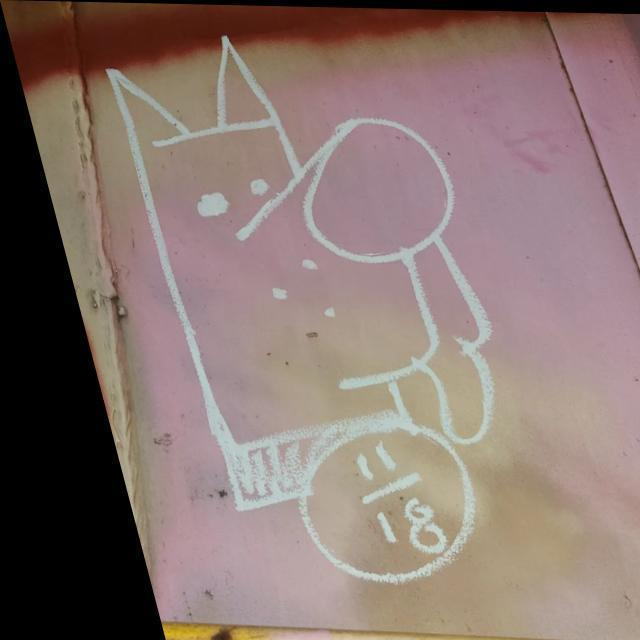nonspitting: (106, 37, 496, 584)
